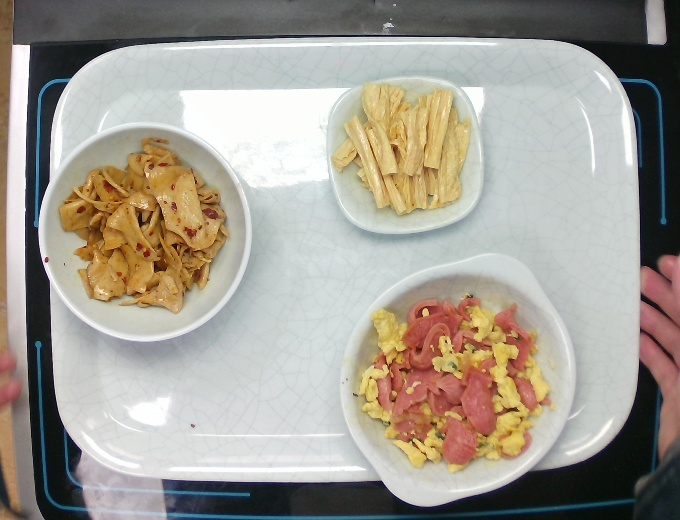JYsf-Fan_Wan: (36, 123, 257, 345)
JYsf-Shuang_Er_Wan: (340, 249, 577, 508)
JYsf-Si_Fang_Die: (323, 67, 488, 234)
